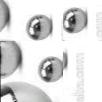ironball: (0, 79, 58, 101), (0, 40, 21, 82), (26, 13, 54, 42), (62, 6, 90, 34), (39, 55, 63, 83), (0, 0, 9, 31)
